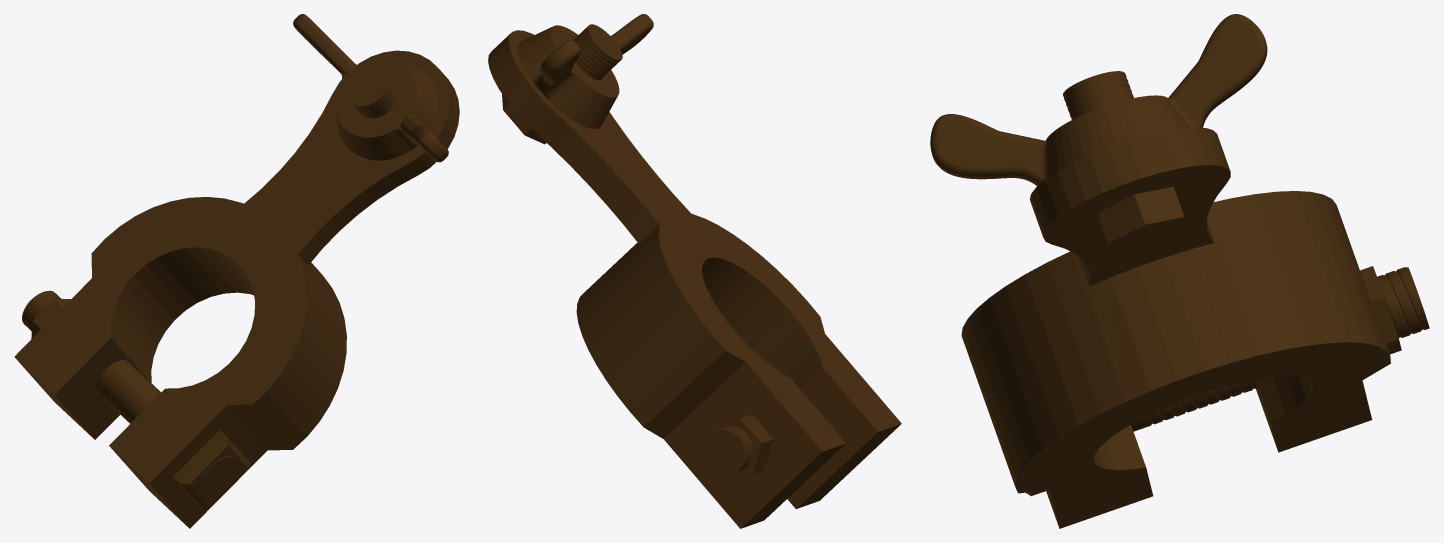
The model's file is Clamp 2.fbx.
3 renders of one model, left to right at view 1: azimuth 30°, elevation 25°; view 2: azimuth 150°, elevation 25°; view 3: azimuth 270°, elevation 25°, orthographic. The views are drawn at different scales.
Visible parts, largest first — view 1: Shape_IndexedFaceSet.002, Shape_IndexedFaceSet.004, Shape_IndexedFaceSet.001, Shape_IndexedFaceSet.003, Shape_IndexedFaceSet; view 2: Shape_IndexedFaceSet.002, Shape_IndexedFaceSet.004, Shape_IndexedFaceSet.003, Shape_IndexedFaceSet.001, Shape_IndexedFaceSet; view 3: Shape_IndexedFaceSet.002, Shape_IndexedFaceSet.004, Shape_IndexedFaceSet.003, Shape_IndexedFaceSet.001, Shape_IndexedFaceSet.
Boxes of the visible parts, <box> form: Shape_IndexedFaceSet.002: <box>14,50,459,528</box>; Shape_IndexedFaceSet.004: <box>293,14,448,162</box>; Shape_IndexedFaceSet.001: <box>22,290,250,510</box>; Shape_IndexedFaceSet.003: <box>345,66,396,118</box>; Shape_IndexedFaceSet: <box>31,299,70,338</box>; Shape_IndexedFaceSet.002: <box>488,30,901,528</box>; Shape_IndexedFaceSet.004: <box>518,14,653,128</box>; Shape_IndexedFaceSet.003: <box>502,24,622,144</box>; Shape_IndexedFaceSet.001: <box>700,426,753,475</box>; Shape_IndexedFaceSet: <box>700,414,773,480</box>; Shape_IndexedFaceSet.002: <box>961,127,1390,528</box>; Shape_IndexedFaceSet.004: <box>930,14,1267,185</box>; Shape_IndexedFaceSet.003: <box>1063,71,1186,254</box>; Shape_IndexedFaceSet.001: <box>1026,267,1429,496</box>; Shape_IndexedFaceSet: <box>1360,266,1401,354</box>.
Size of the model in its own units: 3.84 by 4.27 by 3.01.
